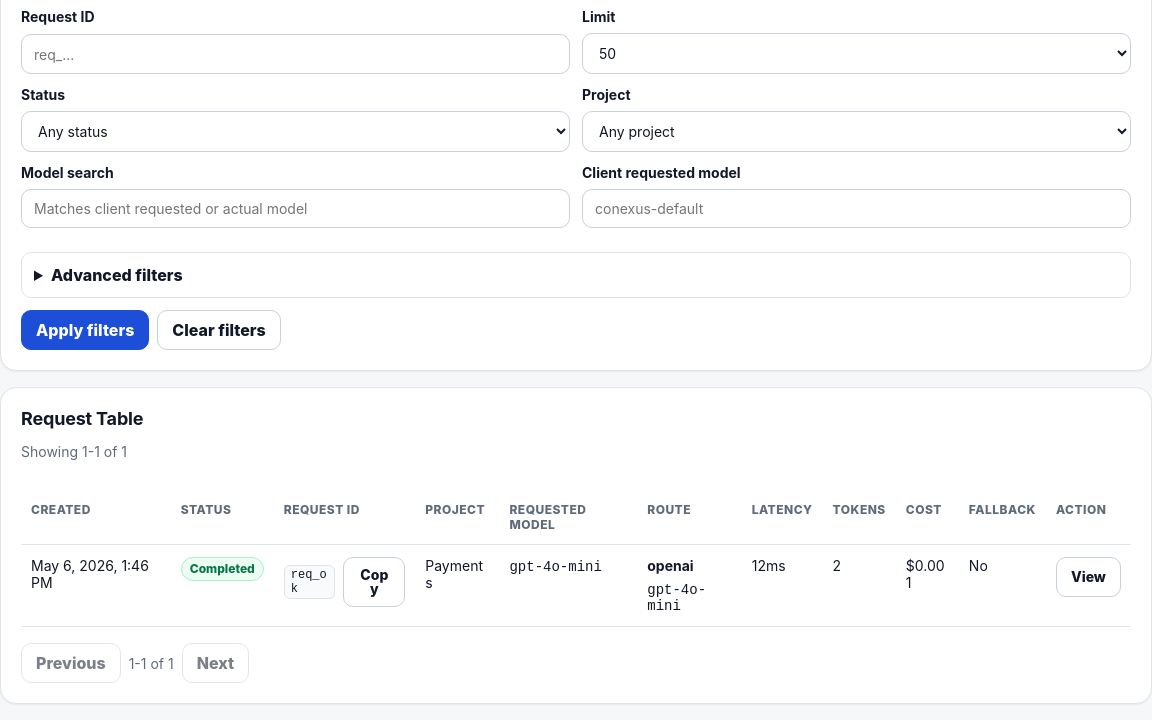
Test case: RequestsPage › opens detail drawer when View details is clicked
The width and height of the screenshot is (1152, 720).
(page scrolled)
Check: the text "req_ok" is shown, box [284, 565, 336, 599]
Click the button "View": (1088, 577) [1056, 557, 1121, 597]
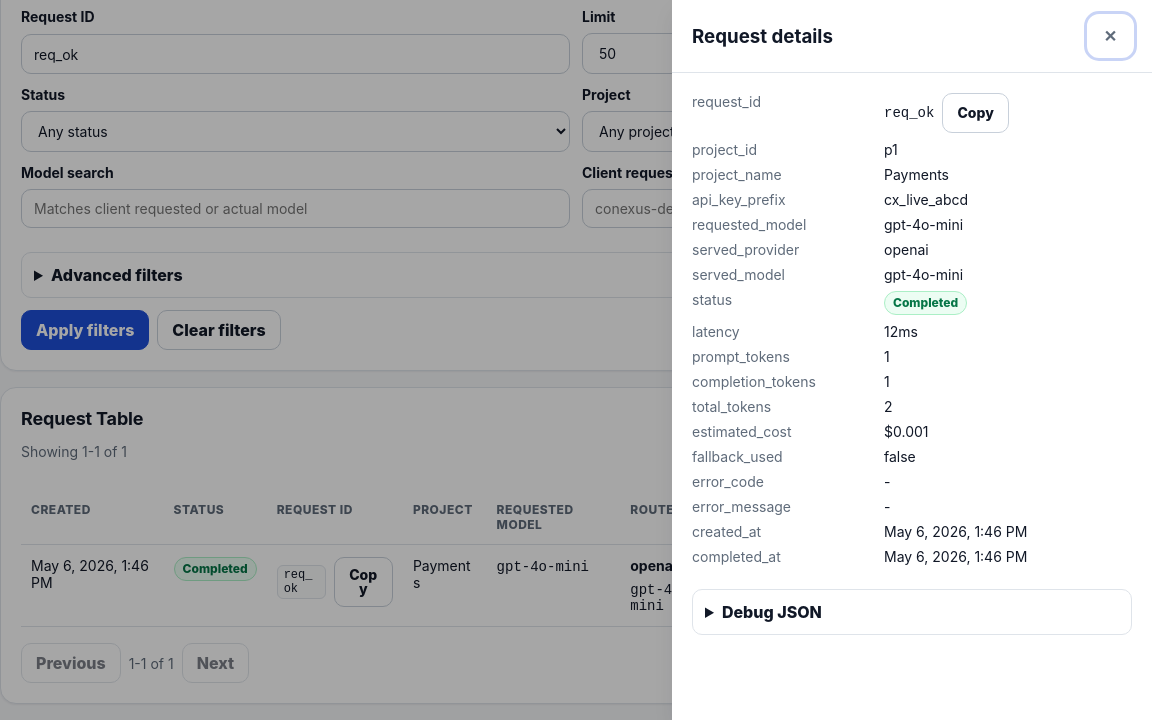
Check: the heading "Request details" is shown, box [692, 24, 833, 48]
